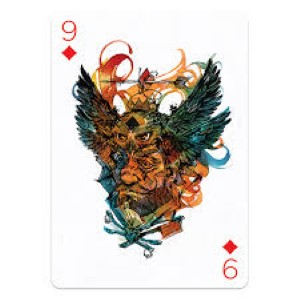NineOfDiamonds: (46, 6, 249, 293)
